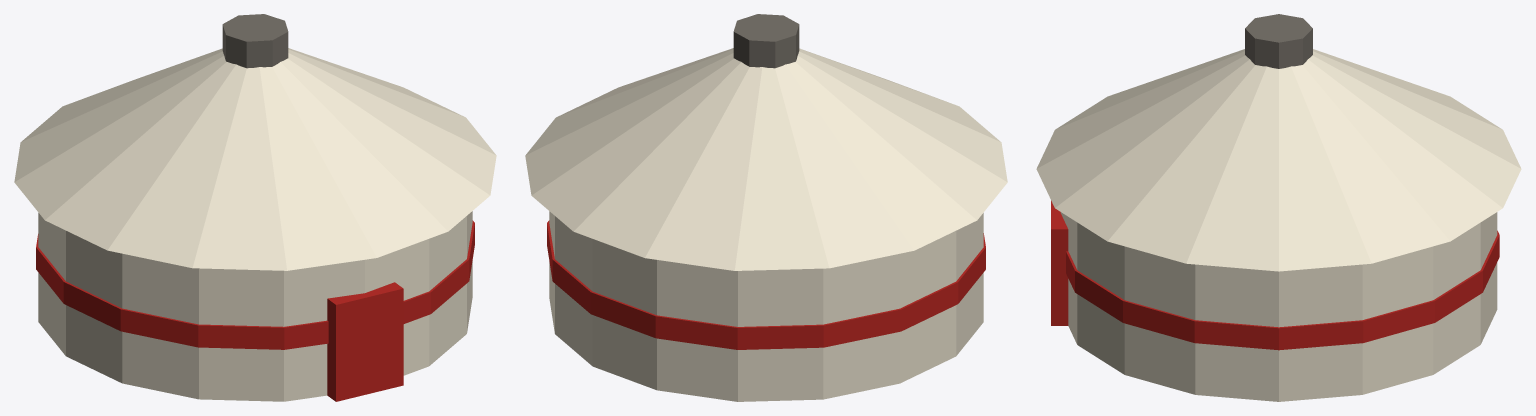
File: yurt.glb
3 renders of one model, left to right at view 1: azimuth 30°, elevation 25°; view 2: azimuth 150°, elevation 25°; view 3: azimuth 270°, elevation 25°, orthographic.
Parts seen in each view (by area): view 1: yurt; view 2: yurt; view 3: yurt.
Part boxes in pixels (x1,y1,x2,y2): yurt: (14, 14, 496, 401); yurt: (525, 14, 1007, 401); yurt: (1036, 14, 1521, 401).
Size of the model in its own units: 1 by 0.64 by 1.
